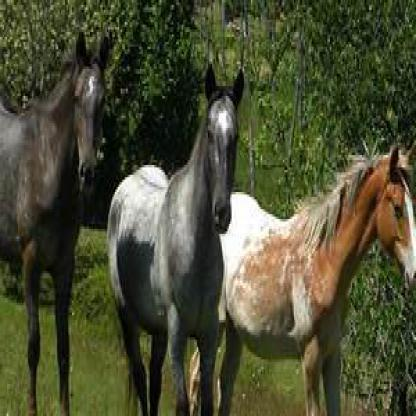horse: (222, 143, 414, 408), (104, 69, 250, 413), (2, 40, 112, 414)
